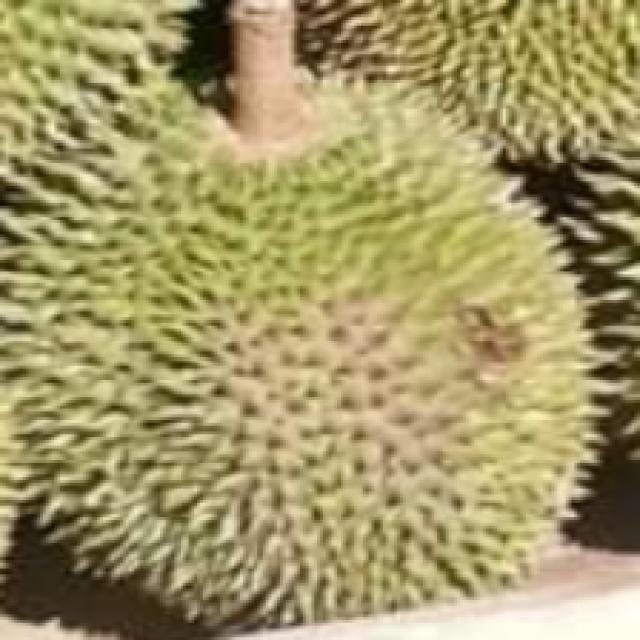d24: (29, 27, 584, 600)
